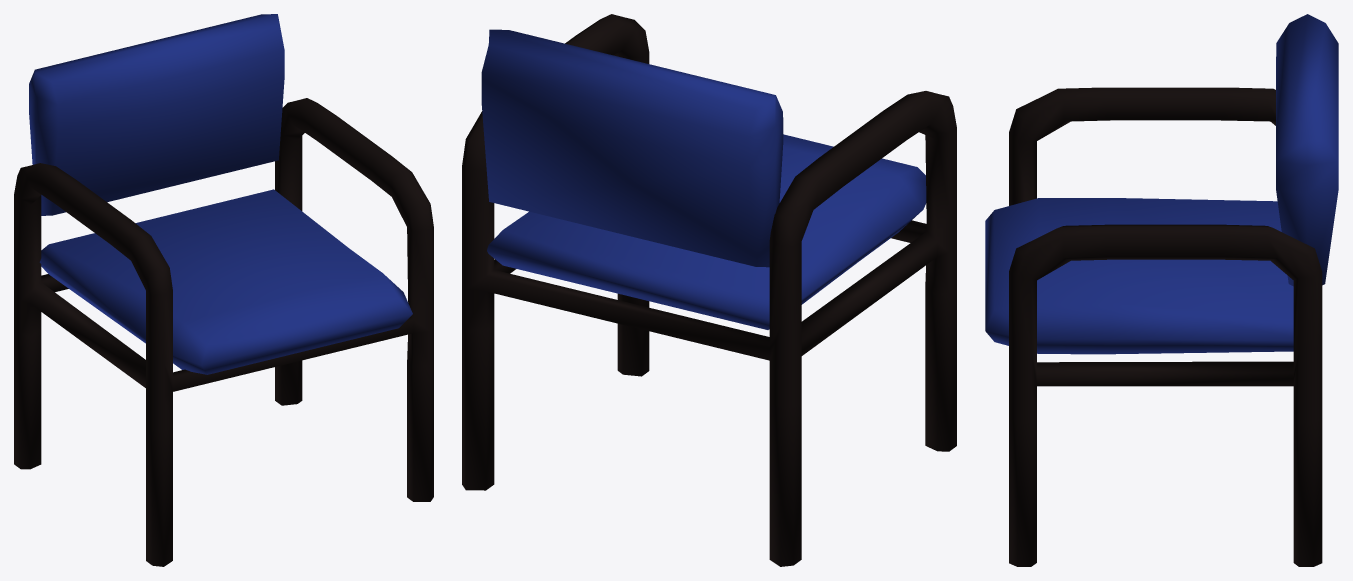
Rendered from Chair.fbx.
The picture shows the model from 3 angles, left to right: view 1: azimuth 30°, elevation 25°; view 2: azimuth 150°, elevation 25°; view 3: azimuth 270°, elevation 25°; orthographic projection. The views are drawn at different scales.
Visible parts, largest first — view 1: Cube.048, Cube.049, Cube.050; view 2: Cube.048, Cube.050, Cube.049; view 3: Cube.048, Cube.049, Cube.050.
Boxes of the visible parts, left/top/right/bottom form: Cube.048: left=14, top=98, right=433, bottom=566; Cube.049: left=39, top=189, right=412, bottom=374; Cube.050: left=29, top=14, right=284, bottom=215; Cube.048: left=462, top=14, right=956, bottom=566; Cube.050: left=481, top=29, right=783, bottom=267; Cube.049: left=487, top=134, right=926, bottom=329; Cube.048: left=1009, top=87, right=1322, bottom=566; Cube.049: left=985, top=198, right=1293, bottom=354; Cube.050: left=1276, top=14, right=1338, bottom=286.
Size of the model in its own units: 63.91 by 84.37 by 64.96.
